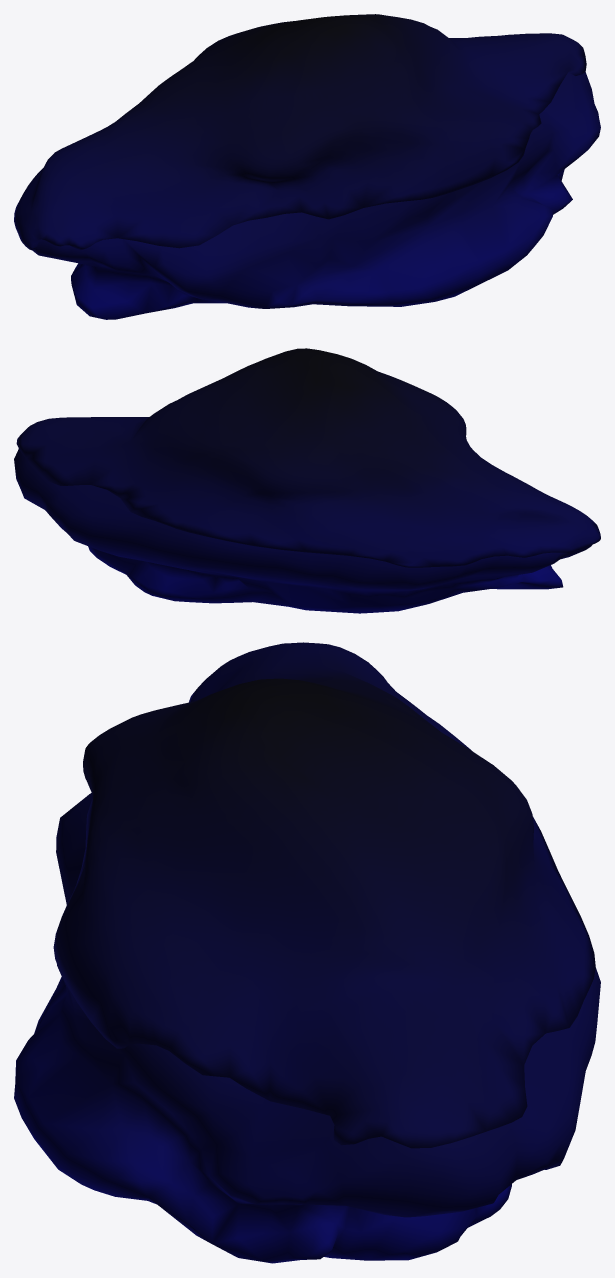
Rendered from bush_03.fbx.
3 views of the same model, one above another, from view 1: azimuth 30°, elevation 25°; view 2: azimuth 150°, elevation 25°; view 3: azimuth 270°, elevation 25° (orthographic). The views are drawn at different scales.
Parts seen in each view (by area): view 1: bush_03; view 2: bush_03; view 3: bush_03.
Part boxes in pixels (x1=…): bush_03: x1=14, y1=14, x2=600, y2=319; bush_03: x1=14, y1=348, x2=600, y2=613; bush_03: x1=14, y1=642, x2=600, y2=1263.
Size of the model in its own units: 2.54 by 1.03 by 1.31.
